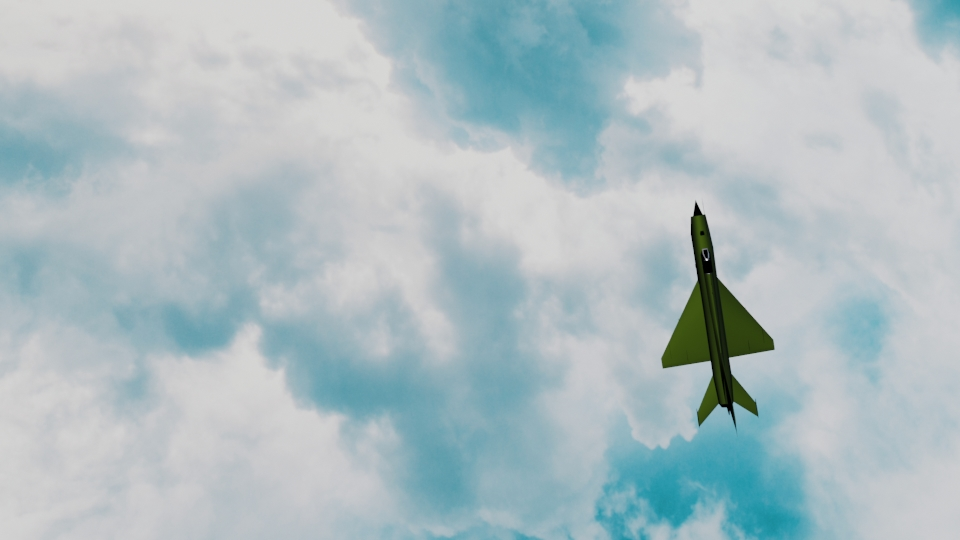plane: (661, 199, 761, 432)
